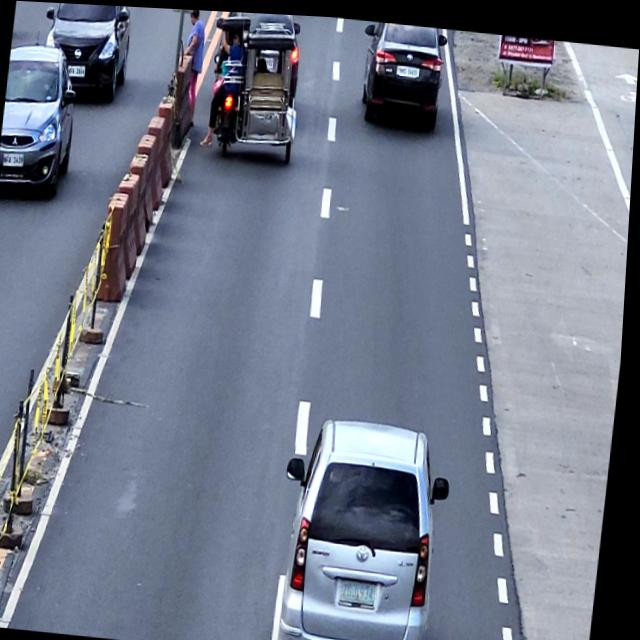Car: (273, 398, 462, 640), (0, 41, 83, 197), (355, 17, 449, 126), (39, 2, 134, 101)
License-Plate: (344, 572, 386, 605), (4, 150, 27, 168), (396, 60, 421, 76), (67, 64, 88, 78)
Tricycle: (202, 9, 308, 163)
